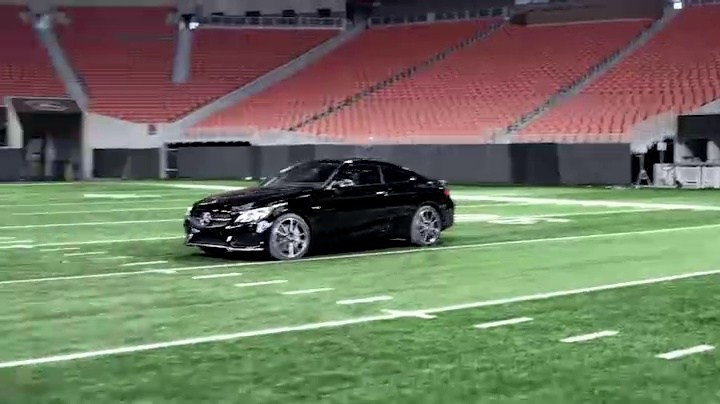amg: (181, 158, 458, 262)
